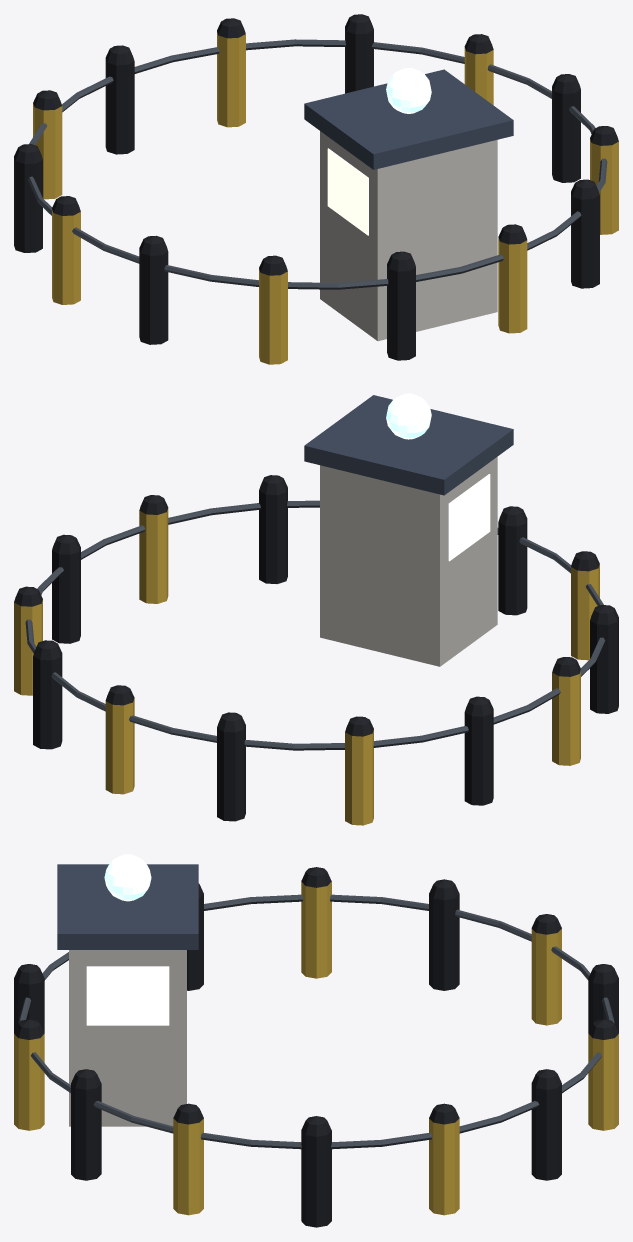
The model's file is sg-checkpoint.glb.
The picture shows the model from 3 angles, top to bottom: view 1: azimuth 30°, elevation 25°; view 2: azimuth 150°, elevation 25°; view 3: azimuth 270°, elevation 25°; orthographic projection.
Visible parts, largest first — view 1: cw_paint, cw_glow, cw_neon; view 2: cw_paint, cw_glow, cw_neon; view 3: cw_paint, cw_glow, cw_neon.
Part boxes in pixels (x1=…): cw_paint: x1=14, y1=14, x2=618, y2=364; cw_glow: x1=327, y1=148, x2=368, y2=235; cw_neon: x1=386, y1=68, x2=431, y2=113; cw_paint: x1=14, y1=395, x2=618, y2=825; cw_glow: x1=448, y1=474, x2=490, y2=561; cw_neon: x1=386, y1=393, x2=431, y2=439; cw_paint: x1=14, y1=864, x2=618, y2=1227; cw_glow: x1=86, y1=966, x2=169, y2=1025; cw_neon: x1=104, y1=854, x2=151, y2=901.
Bounding box in the file's own units: 5.26 × 2.25 × 5.13.
